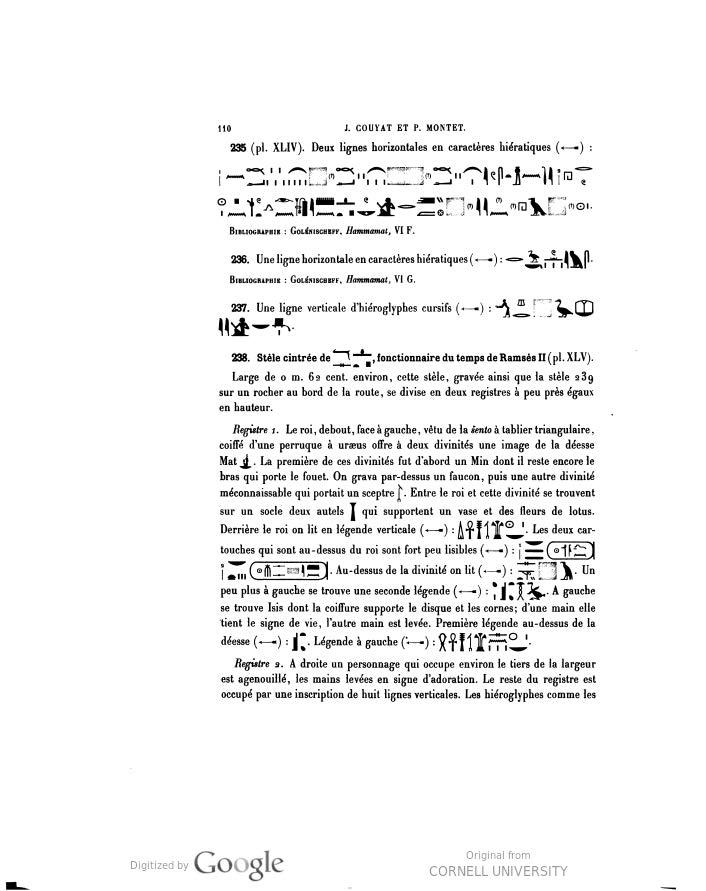circle: (248, 557, 335, 584), (546, 536, 605, 565)
